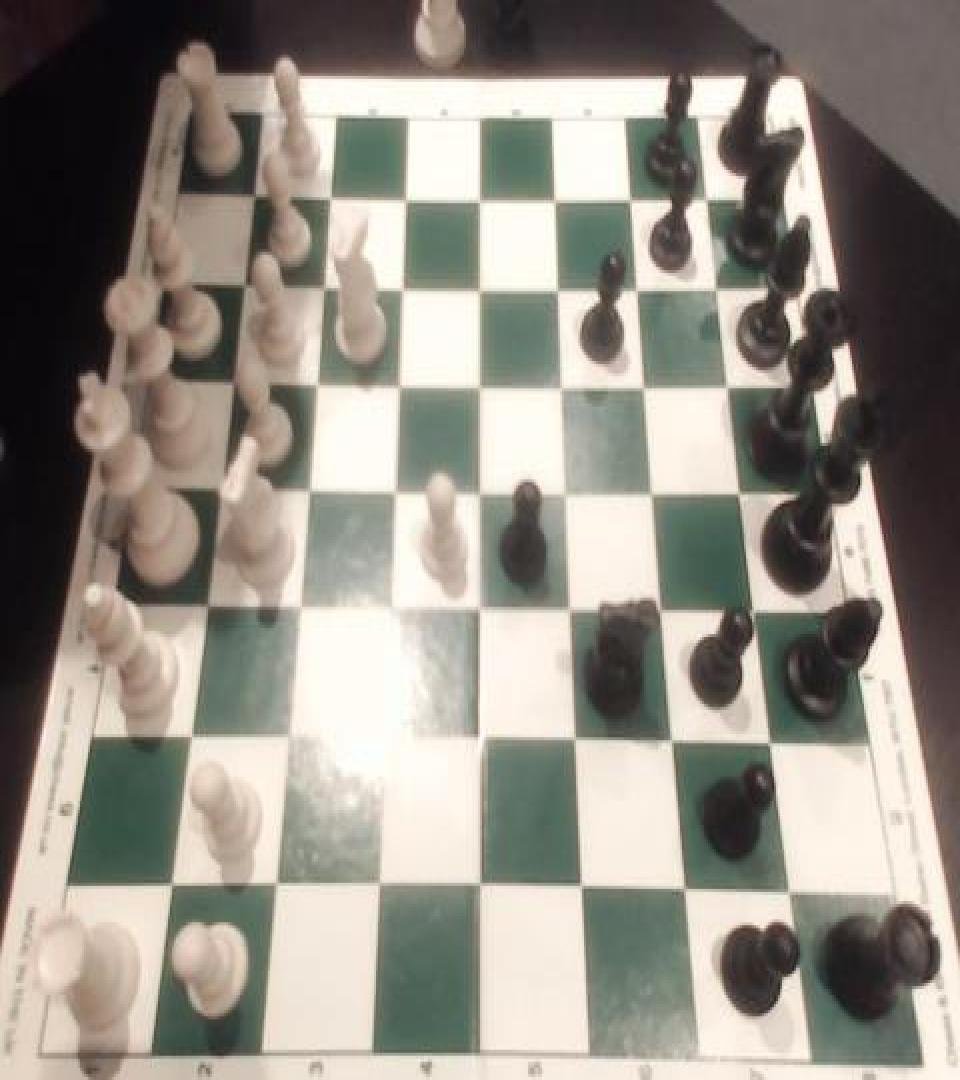xcorner: (311, 171, 339, 214), (236, 171, 264, 214), (702, 262, 730, 305), (622, 262, 650, 305), (542, 262, 570, 305), (630, 359, 658, 402), (546, 359, 574, 402), (463, 359, 491, 402), (550, 467, 578, 510), (463, 467, 491, 510), (201, 464, 229, 507), (555, 587, 583, 630), (463, 585, 491, 628), (370, 585, 398, 628), (659, 722, 687, 765), (561, 720, 589, 763), (267, 717, 295, 760), (776, 875, 804, 918), (671, 872, 699, 915), (462, 869, 490, 912), (255, 866, 283, 909), (691, 173, 719, 215), (615, 173, 643, 215), (539, 173, 567, 215), (463, 173, 491, 215), (387, 173, 415, 215), (463, 261, 491, 303), (383, 261, 411, 303), (304, 261, 332, 303), (225, 261, 253, 303), (714, 361, 742, 403), (379, 358, 407, 400), (296, 358, 324, 400), (214, 358, 242, 400), (727, 469, 755, 511), (639, 469, 667, 511), (375, 466, 403, 508), (288, 466, 316, 508), (742, 589, 770, 631), (648, 589, 676, 631), (278, 584, 306, 626), (186, 584, 214, 626), (758, 724, 786, 766), (463, 719, 491, 761), (365, 719, 393, 761), (170, 716, 198, 758), (567, 871, 595, 913), (359, 868, 387, 910), (152, 865, 180, 907)
